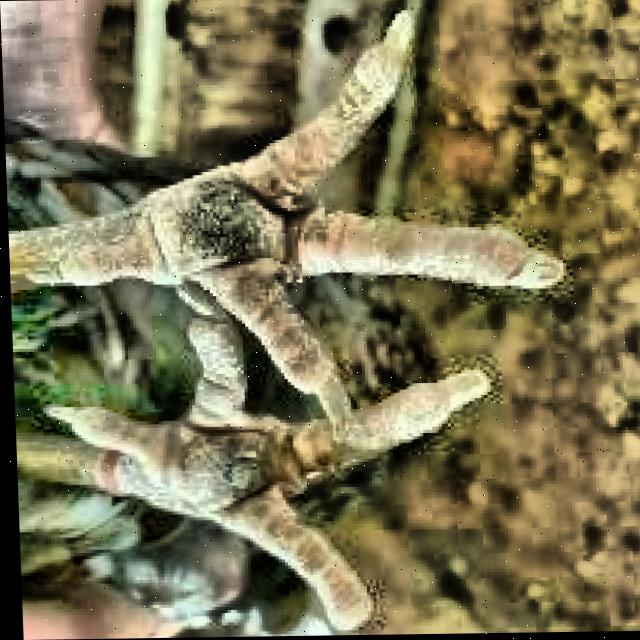Bumble foot: (158, 170, 316, 318), (178, 408, 306, 545)
